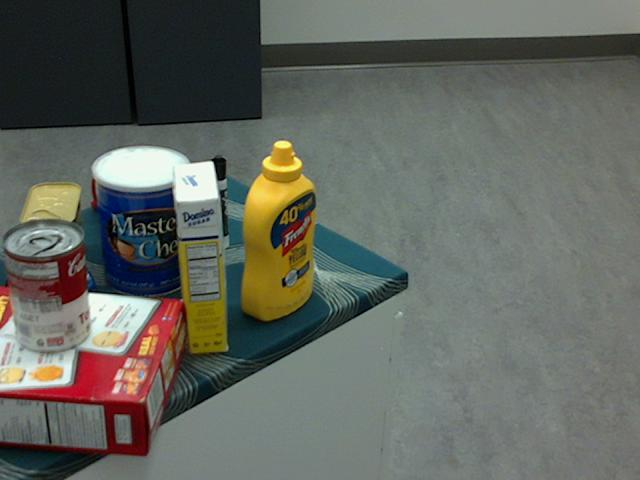cracker_box: (0, 283, 184, 456)
large_marker: (211, 154, 229, 248)
master_chef_can: (90, 145, 191, 299)
mug: (89, 147, 181, 230)
mustard_bottle: (239, 138, 316, 320)
potted_meat_can: (20, 180, 83, 287)
sugar_box: (173, 159, 228, 355)
tomato_soup_can: (1, 218, 90, 352)
tuna_fish_can: (4, 250, 95, 336)
